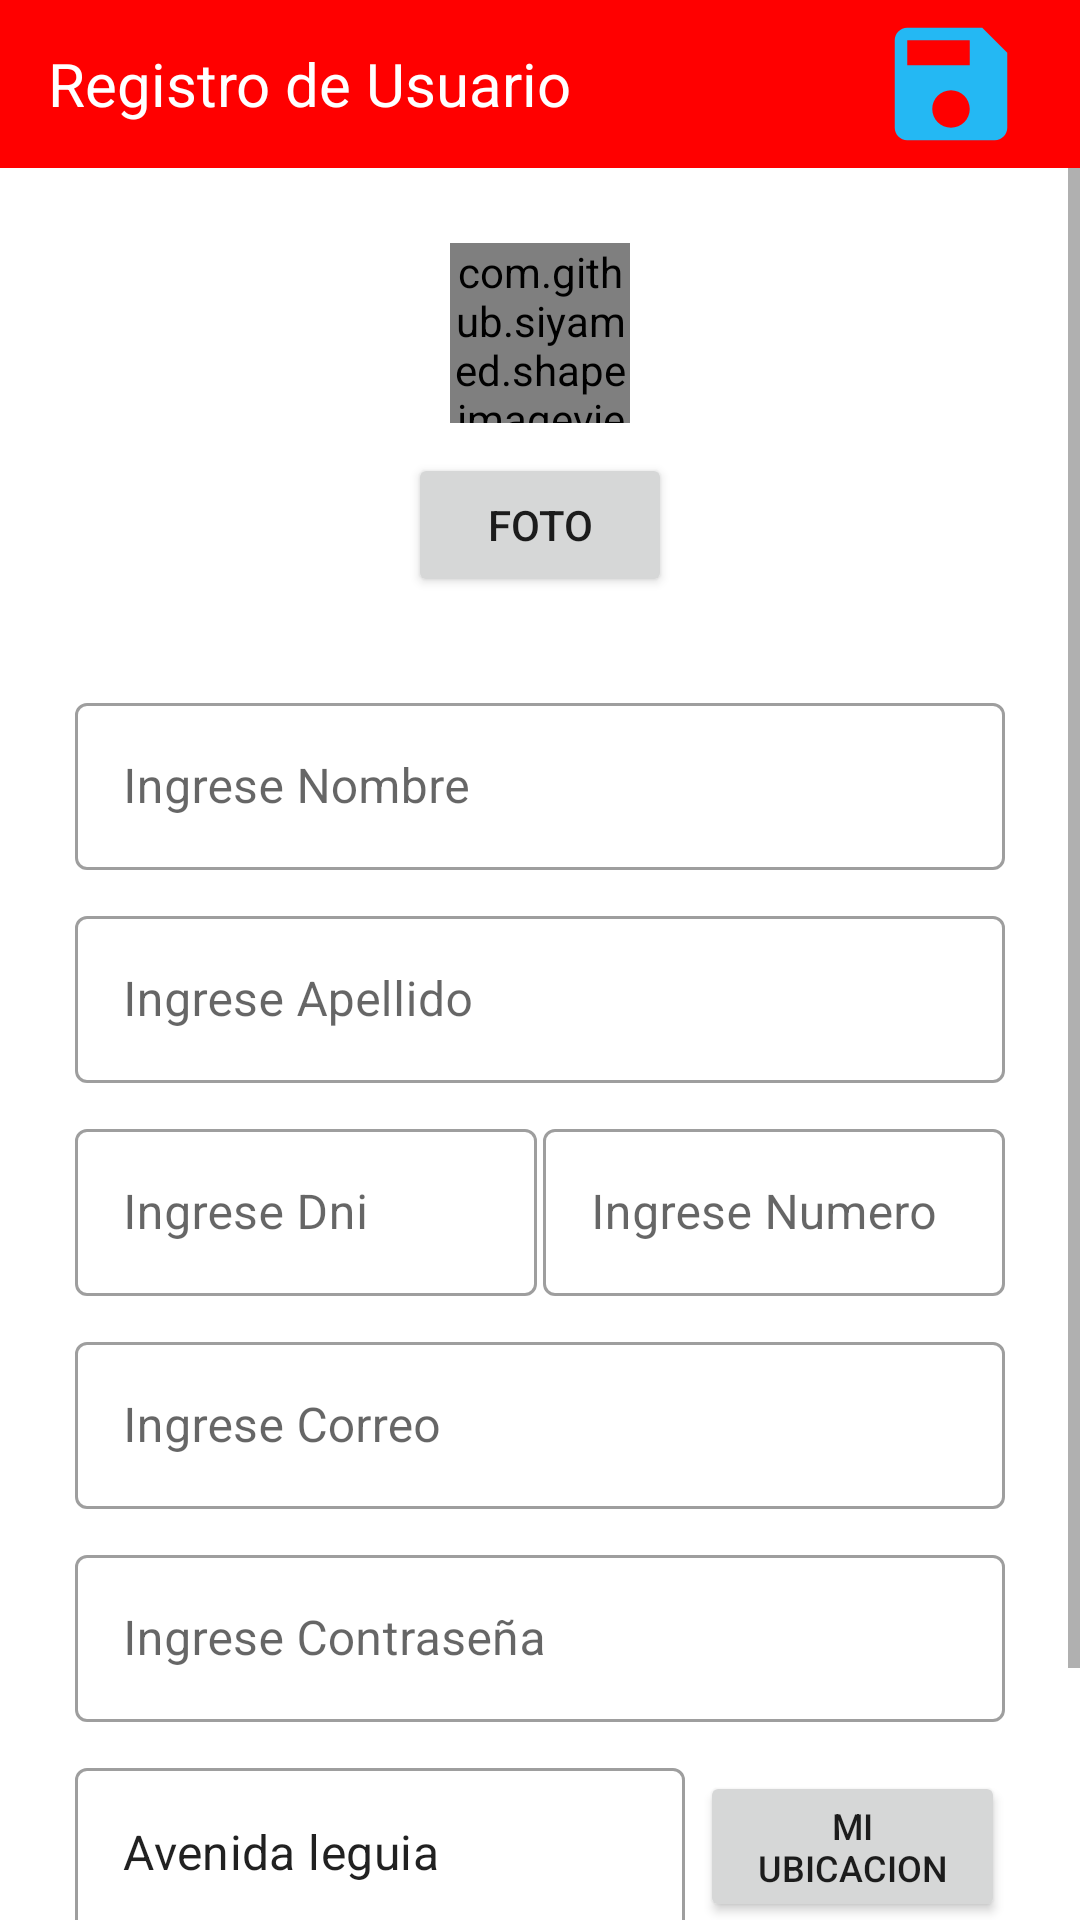

Icon bounding boxes for this 1080px×1920px phone screenshot, format (x1, y1, x2, y2):
save: (894, 27, 1008, 141)
